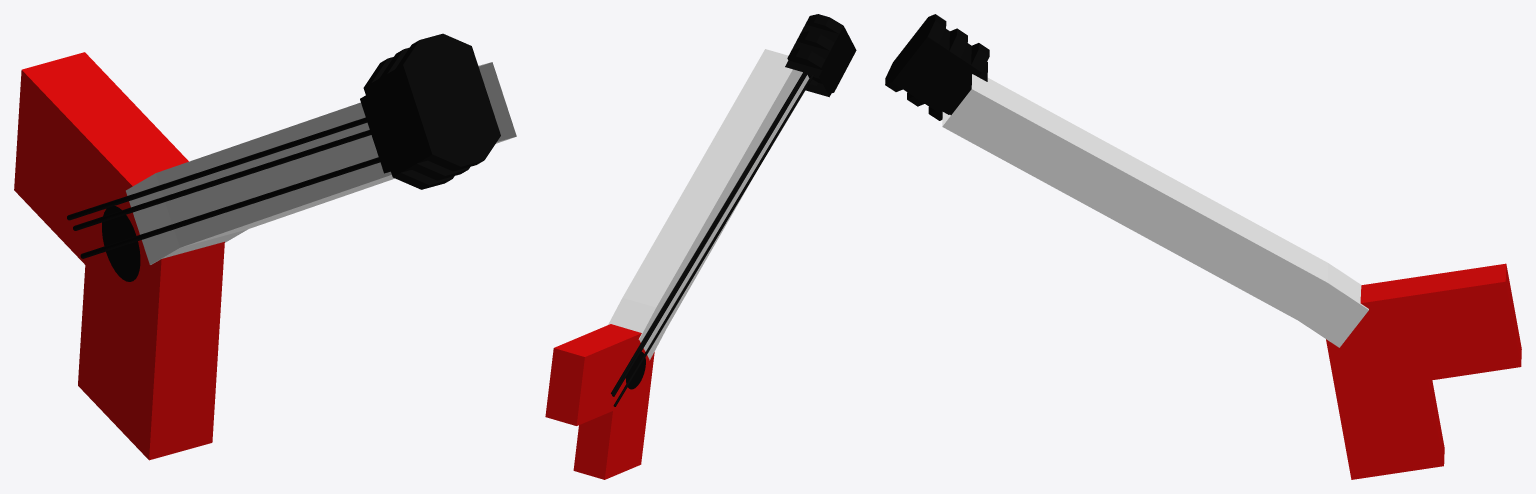
The model's file is Voyk Guitar.fbx.
3 renders of one model, left to right at view 1: azimuth 30°, elevation 25°; view 2: azimuth 150°, elevation 25°; view 3: azimuth 270°, elevation 25°, orthographic. The views are drawn at different scales.
Visible parts, largest first — view 1: G.001, G.003, G.004, G.005, G.002, G.016, G.000; view 2: G.003, G.001, G.004, G.002, G.005, G.016, G.000; view 3: G.003, G.001, G.004.
Boxes of the visible parts, bbox=[...] form: G.001: bbox=[14, 52, 224, 460]; G.003: bbox=[126, 62, 516, 264]; G.004: bbox=[360, 33, 500, 189]; G.005: bbox=[67, 117, 367, 220]; G.002: bbox=[80, 157, 380, 258]; G.016: bbox=[73, 130, 371, 230]; G.000: bbox=[102, 206, 140, 281]; G.003: bbox=[608, 49, 809, 360]; G.001: bbox=[545, 324, 654, 479]; G.004: bbox=[785, 14, 856, 97]; G.002: bbox=[613, 75, 814, 406]; G.005: bbox=[611, 72, 805, 394]; G.016: bbox=[612, 73, 807, 396]; G.000: bbox=[625, 351, 645, 389]; G.003: bbox=[942, 74, 1368, 347]; G.001: bbox=[1326, 263, 1521, 479]; G.004: bbox=[885, 14, 989, 120].
Size of the model in its own units: 82.91 by 382 by 511.
